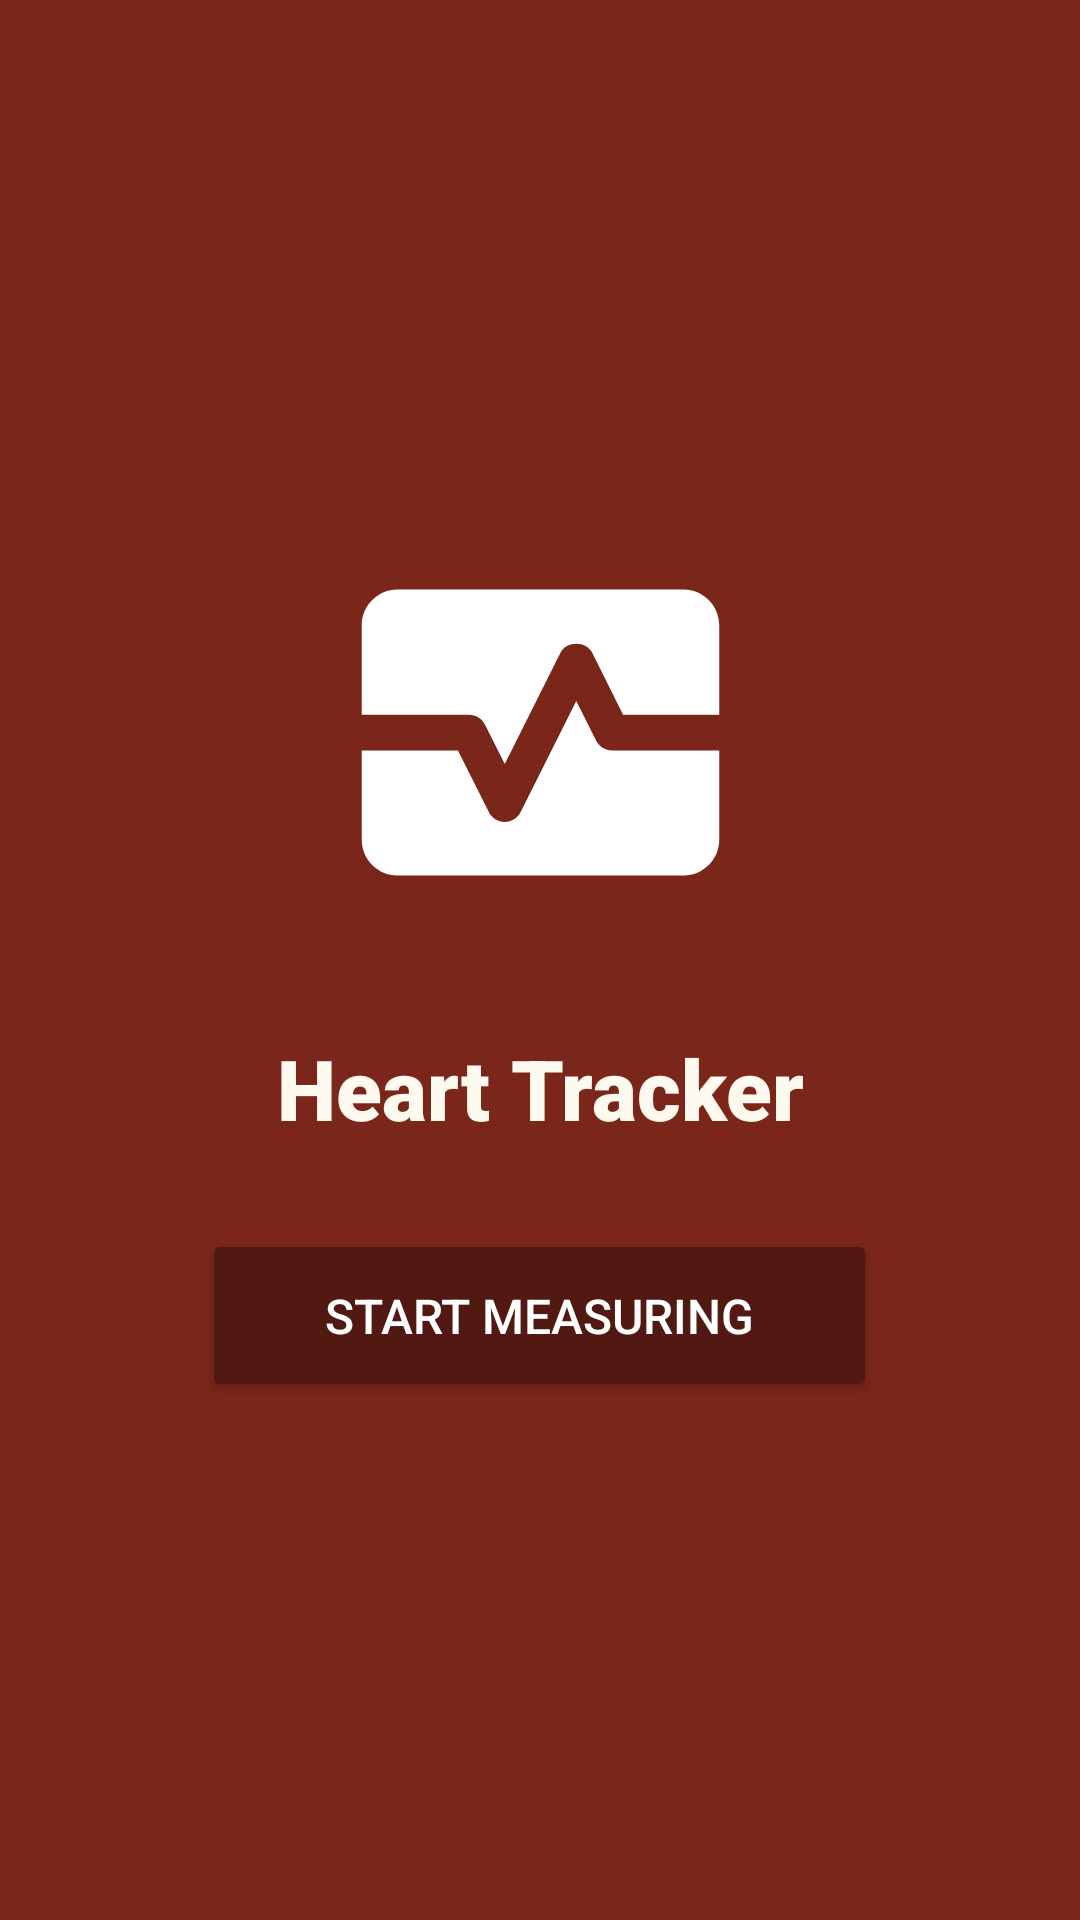

Locate icon controls on the screen. Image size 1080x1920, boxes as (x1, y1, x2, y2).
monitor heart: (361, 589, 720, 876)
